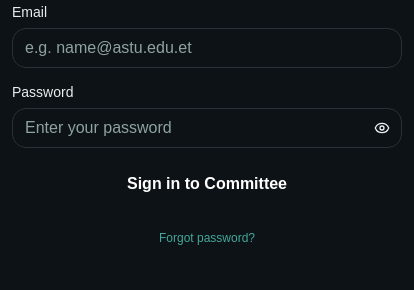
Test: Independent staff authentication › fails closed when role records cannot be read
Type "account@example.com" into the field labelled "Email".
click(207, 48); type("account@example.com")  # box [12, 28, 402, 68]
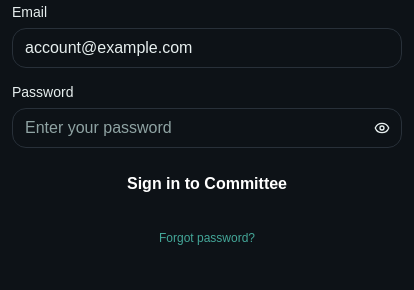
Type "test-password" into the password field labelled "Password".
click(207, 128); type("test-password")  # box [12, 108, 402, 148]
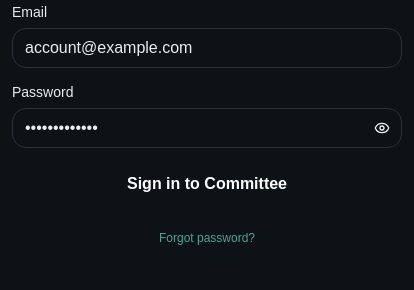
Click the button "Sign in to Committee".
click(207, 184)  # box [12, 160, 402, 208]
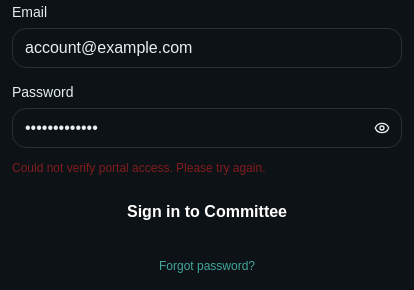
Expected: the message "Could not verify portal access. Please try again." is shown, [12, 161, 266, 175]
